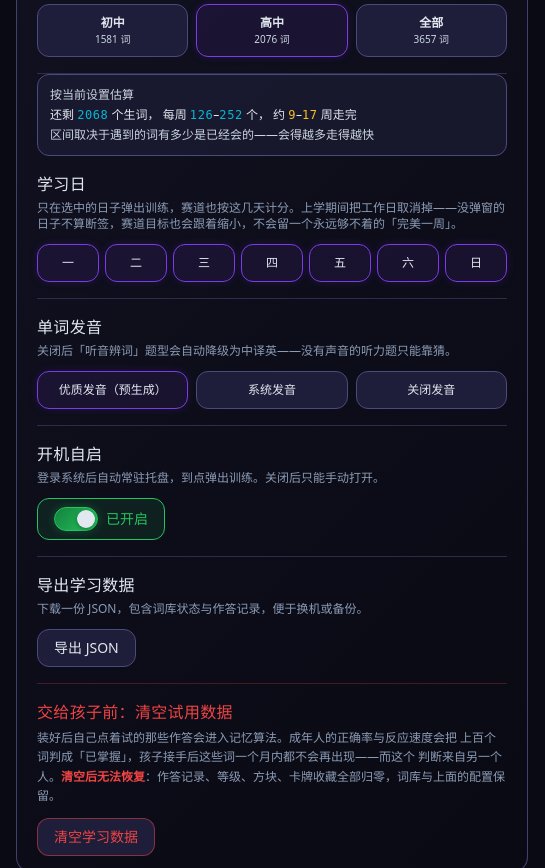
Scenario: 设置面板 › 清空学习数据 › 清空失败显示原因，不谎报成功
(page scrolled)
Click the button "清空学习数据" at {"x": 96, "y": 837}, box [37,818,155,856]
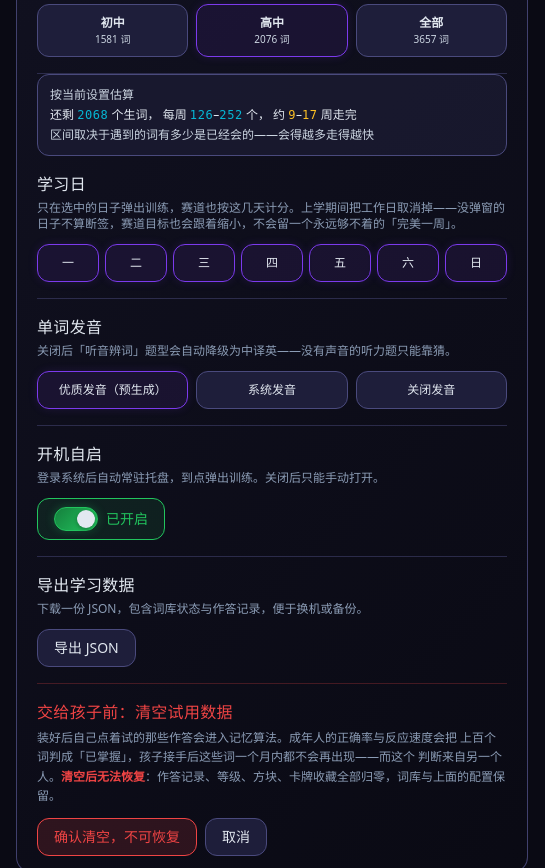
Click the button "确认清空，不可恢复" at {"x": 117, "y": 837}, box [37,818,197,856]
(page scrolled)
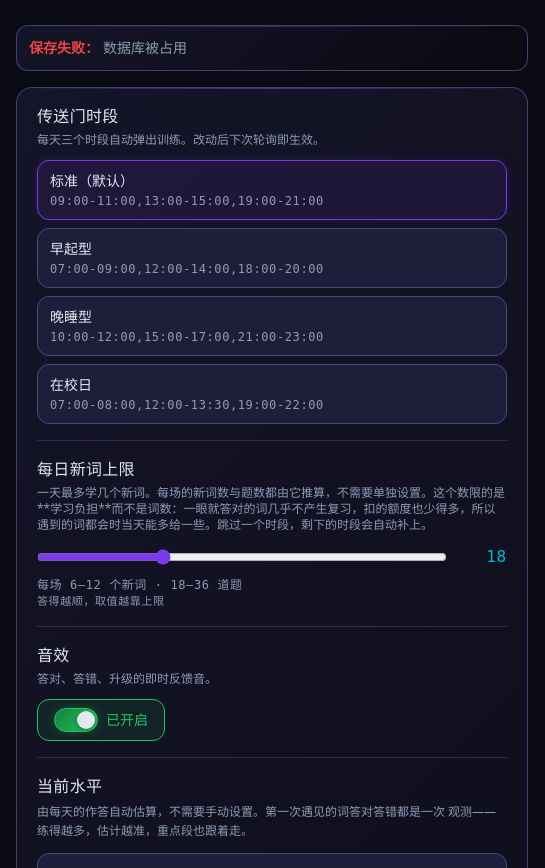
Now the text "数据库被占用" is shown, box [103,38,187,57]
